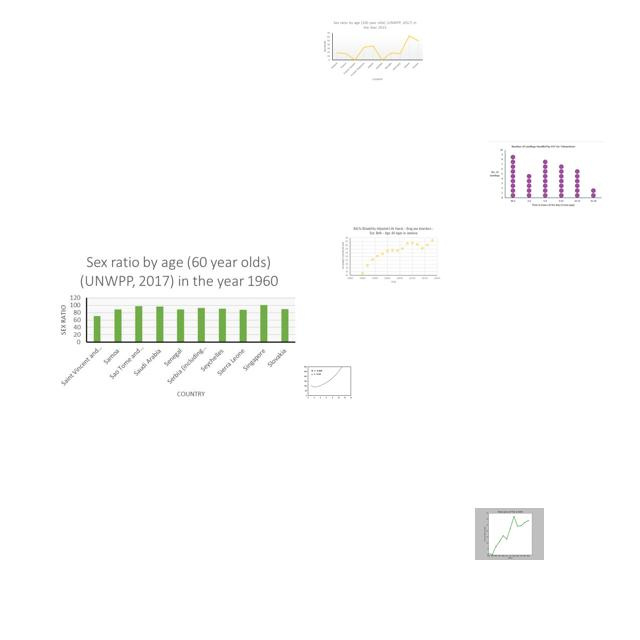Graph: (52, 248, 301, 403), (486, 141, 604, 210), (322, 18, 424, 83), (340, 225, 442, 285), (475, 508, 544, 560), (303, 365, 353, 400)
